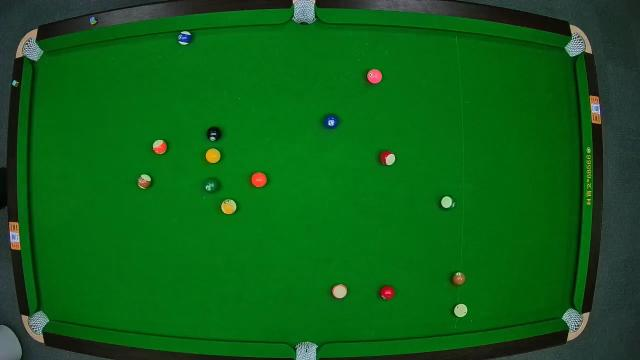bag1: (22, 39, 42, 61)
bag2: (292, 0, 318, 24)
bag3: (564, 33, 588, 55)
bag4: (27, 310, 48, 334)
bag5: (293, 340, 319, 360)
bag6: (562, 308, 582, 330)
ball0: (452, 304, 468, 320)
ball1: (206, 148, 220, 164)
ball10: (176, 30, 192, 46)
ball11: (379, 149, 396, 167)
ball12: (332, 283, 348, 299)
ball13: (152, 140, 168, 154)
ball14: (440, 194, 456, 210)
ball15: (136, 174, 152, 190)
ball2: (323, 114, 339, 128)
ball3: (379, 284, 397, 300)
ball4: (366, 68, 382, 84)
ball5: (250, 170, 268, 188)
ball6: (204, 178, 220, 194)
ball7: (451, 271, 467, 287)
ball8: (206, 128, 222, 142)
ball9: (220, 197, 238, 215)
